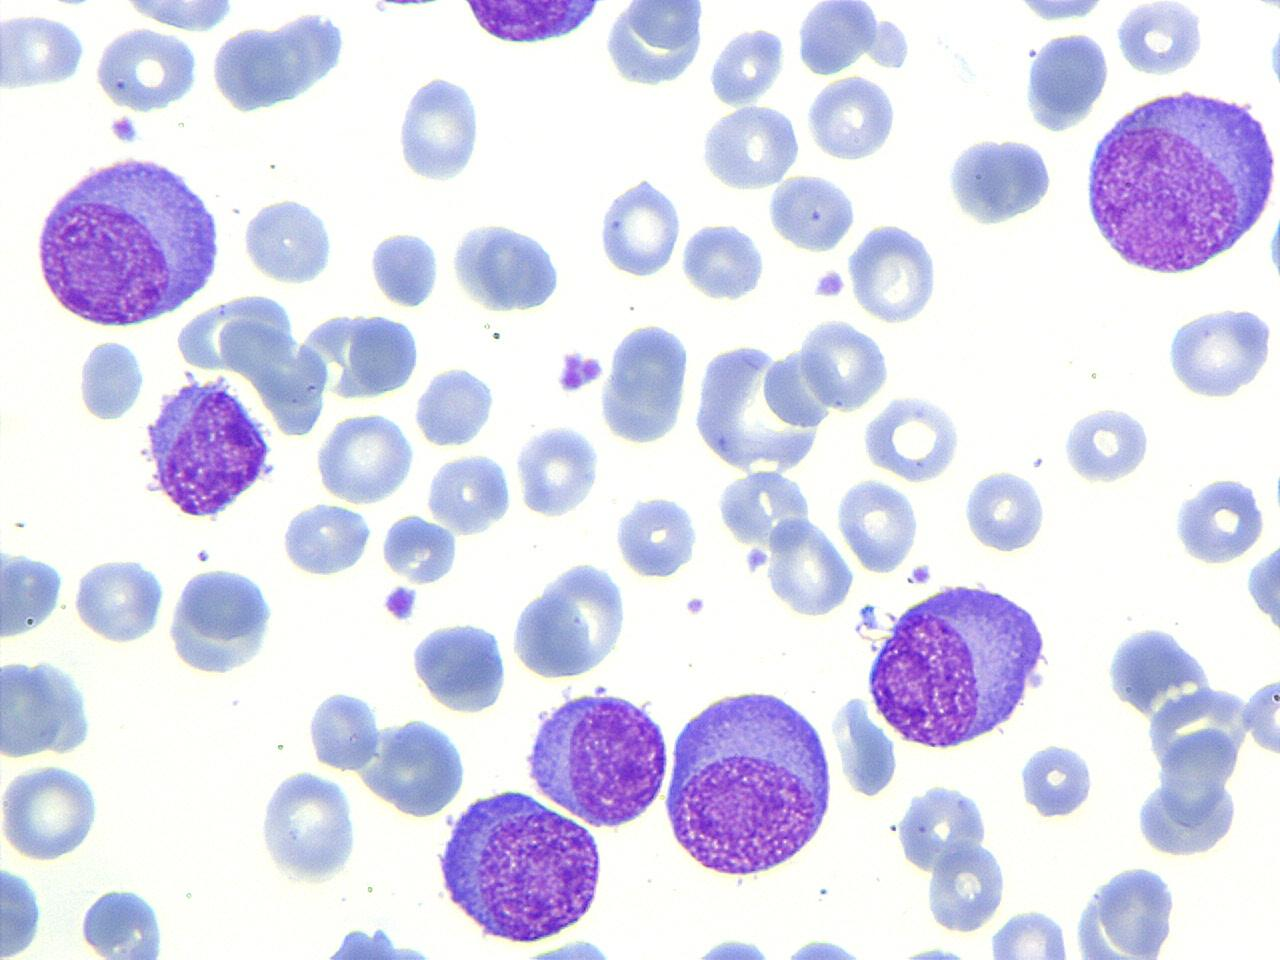Platelets: (393, 72, 482, 186), (1015, 742, 1095, 820), (379, 513, 459, 584), (1246, 538, 1280, 637), (772, 935, 872, 960), (686, 936, 776, 960), (381, 583, 419, 625), (555, 350, 589, 396), (811, 268, 849, 302), (900, 941, 966, 960), (107, 112, 140, 146), (1267, 214, 1280, 283), (582, 354, 608, 388), (743, 545, 770, 575), (1267, 27, 1280, 89), (906, 562, 932, 588), (682, 594, 706, 618)
RBC: (0, 760, 102, 863), (313, 408, 415, 506), (91, 23, 198, 116), (846, 221, 938, 328), (697, 102, 802, 193), (765, 516, 854, 618), (71, 554, 167, 646), (796, 316, 889, 410), (513, 420, 601, 519), (833, 475, 920, 575), (804, 71, 897, 164), (0, 6, 91, 95), (423, 450, 514, 537), (766, 170, 858, 254), (829, 693, 901, 797), (1061, 401, 1149, 486), (678, 221, 766, 304), (704, 22, 787, 107), (345, 311, 422, 399), (305, 686, 382, 772), (984, 906, 1076, 958), (1242, 669, 1280, 764)
WBC: (1078, 80, 1280, 280), (1107, 636, 1269, 868), (26, 148, 226, 332), (658, 682, 838, 882), (858, 576, 1049, 754), (434, 784, 608, 948), (521, 682, 675, 833), (142, 371, 274, 524), (887, 778, 1011, 938), (694, 339, 836, 477), (208, 2, 350, 118), (1129, 732, 1249, 866), (508, 556, 630, 682), (163, 562, 279, 678), (596, 317, 692, 448), (256, 766, 360, 886), (1164, 300, 1278, 403), (451, 218, 564, 318), (1069, 860, 1181, 960), (942, 132, 1055, 230), (367, 714, 471, 819), (1, 654, 100, 762), (0, 760, 103, 862), (90, 24, 204, 115), (408, 617, 511, 716), (1170, 472, 1272, 570), (395, 72, 481, 188), (314, 407, 415, 505), (846, 220, 939, 326), (600, 0, 708, 91), (1022, 25, 1112, 134), (700, 101, 804, 194), (239, 192, 339, 288), (767, 515, 857, 621), (595, 174, 683, 281), (859, 392, 961, 484), (70, 553, 168, 648), (832, 474, 922, 574), (804, 70, 900, 163), (798, 312, 886, 411), (515, 422, 600, 520), (424, 447, 514, 538), (278, 499, 376, 580), (613, 491, 700, 580), (962, 466, 1048, 556), (766, 170, 858, 254), (829, 693, 901, 800), (1059, 402, 1149, 487), (412, 364, 497, 451), (76, 884, 172, 960), (452, 0, 614, 45), (1, 538, 69, 645), (680, 222, 766, 305), (706, 22, 786, 109), (1114, 1, 1204, 78), (793, 1, 887, 74), (277, 924, 467, 960), (347, 310, 420, 400), (305, 687, 381, 773), (366, 226, 442, 310), (379, 510, 460, 588), (76, 334, 146, 424), (0, 854, 48, 958), (984, 906, 1077, 958), (105, 0, 243, 31), (1245, 530, 1280, 648), (774, 937, 873, 960)
